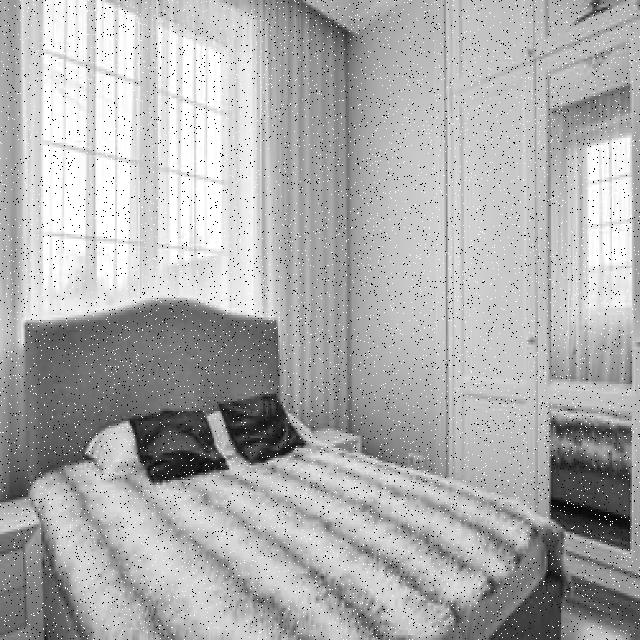bed: (23, 319, 553, 640)
